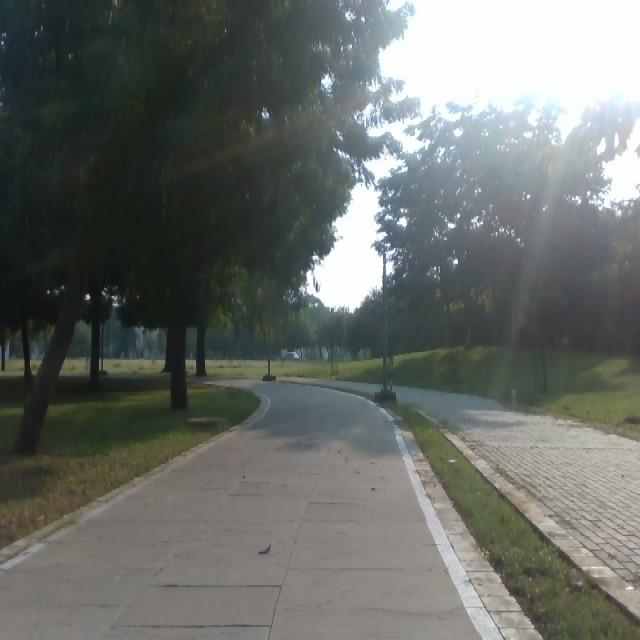lane: (4, 381, 481, 636)
